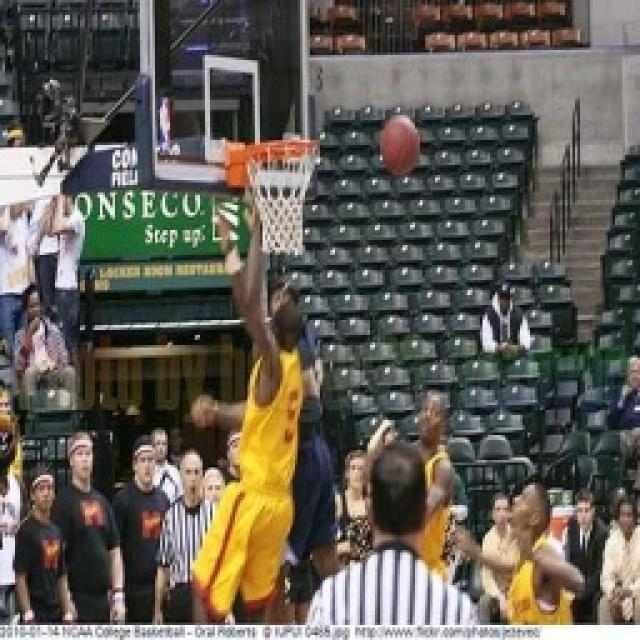rim: (374, 112, 426, 176)
